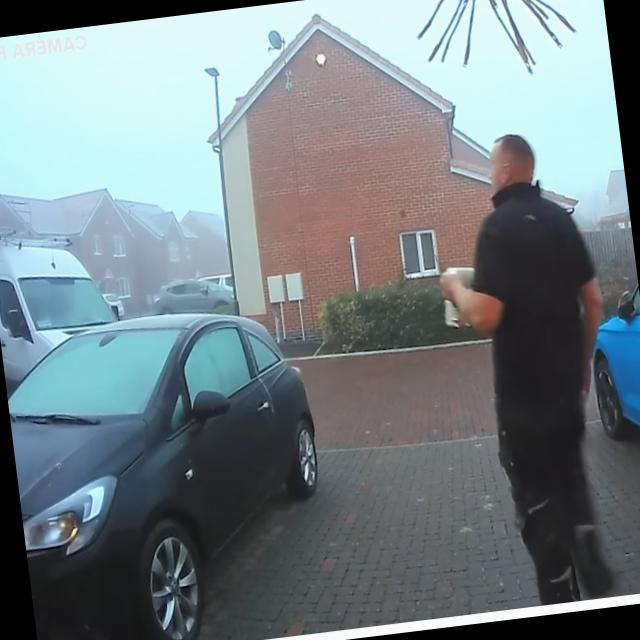person: (423, 122, 638, 614)
